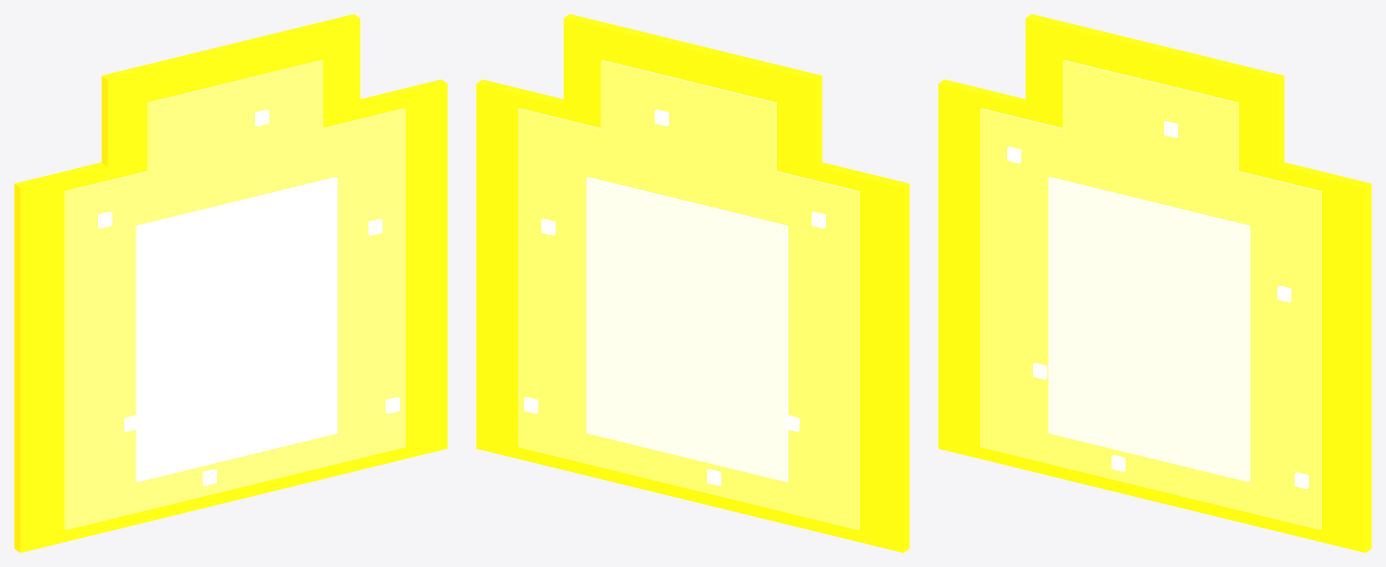
File: th-portal-yellow.glb
3 views of the same model, side by side, from view 1: azimuth 30°, elevation 25°; view 2: azimuth 150°, elevation 25°; view 3: azimuth 330°, elevation 25° (orthographic).
Visible parts, largest first — view 1: box-prop; view 2: box-prop; view 3: box-prop.
Boxes of the visible parts, box(x1,y1,x2,y2) form: box-prop: box(14, 14, 447, 552); box-prop: box(476, 14, 909, 552); box-prop: box(938, 14, 1371, 552).
Size of the model in its own units: 4.9 by 4.95 by 0.34.
